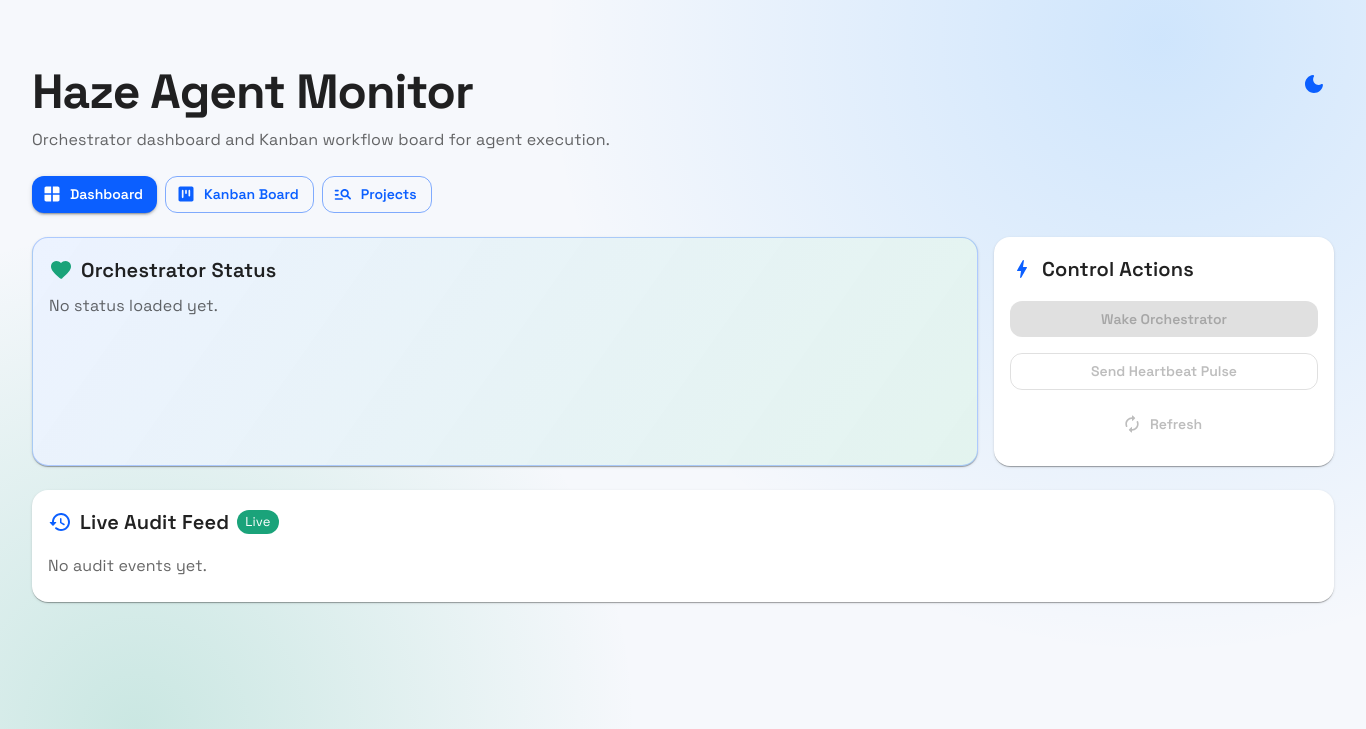
Test: App › auto-clears blocked indicators when all dependencies are done
Click the button "Kanban Board" at (239, 194), box [165,176,314,212]
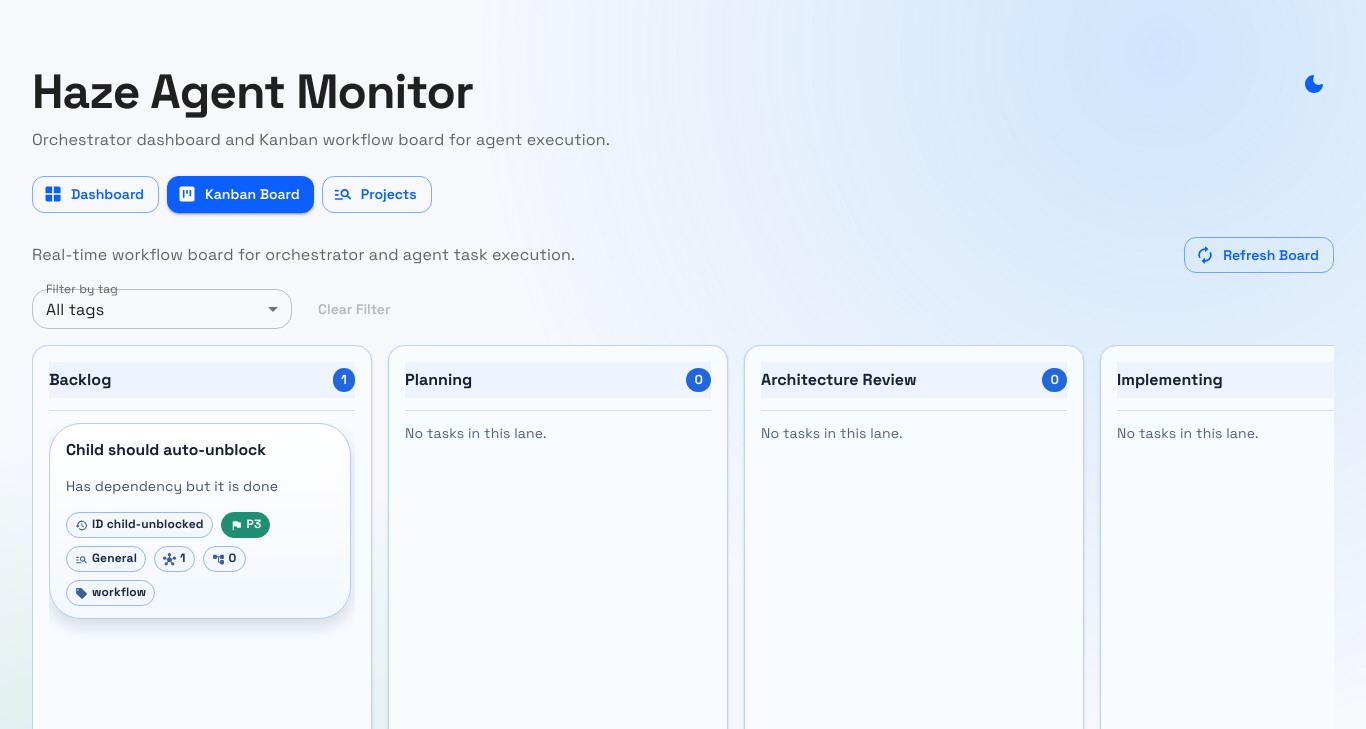
Result: the button "Child should auto-unblock" is shown
Click the button "Child should auto-unblock" at (200, 450), box [66,440,334,460]
(page scrolled)
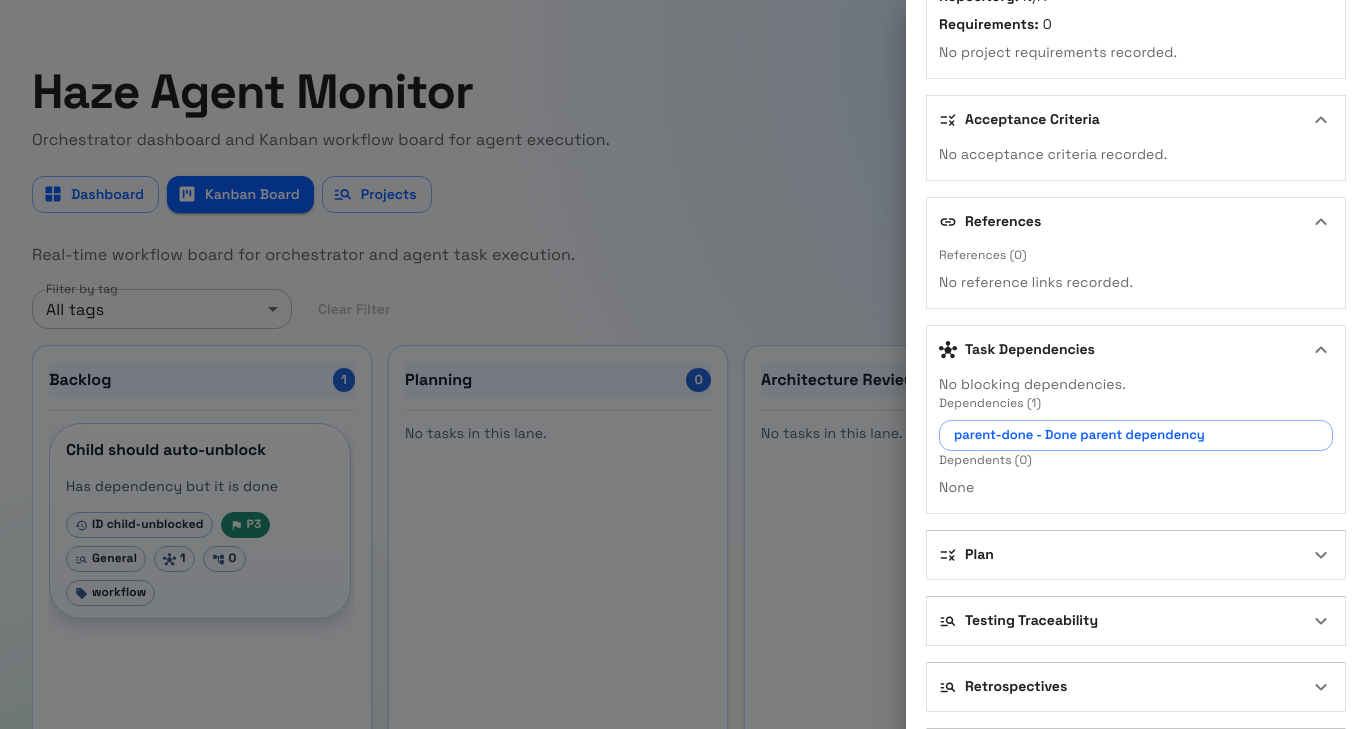
Result: the text "No blocking dependencies." is shown at [939,375,1126,393]
